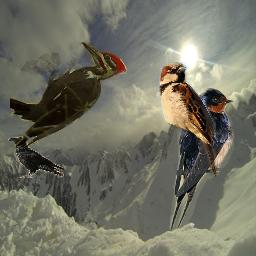Crow: (8, 137, 64, 178)
Swallow: (167, 86, 234, 230), (158, 62, 218, 177)
Woodpecker: (10, 42, 127, 151)
